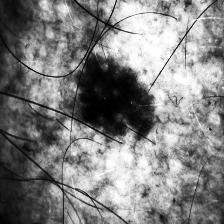Benign Marking or Mole: (79, 59, 156, 137)
